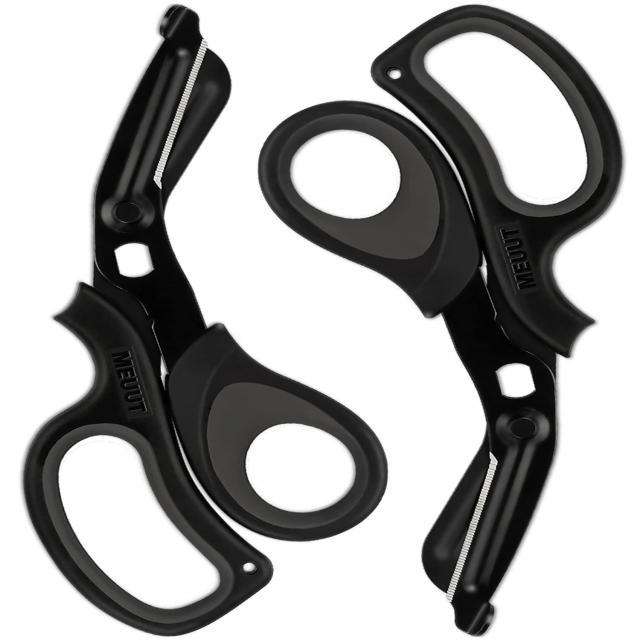scissors: (254, 1, 624, 638), (18, 3, 387, 638)
